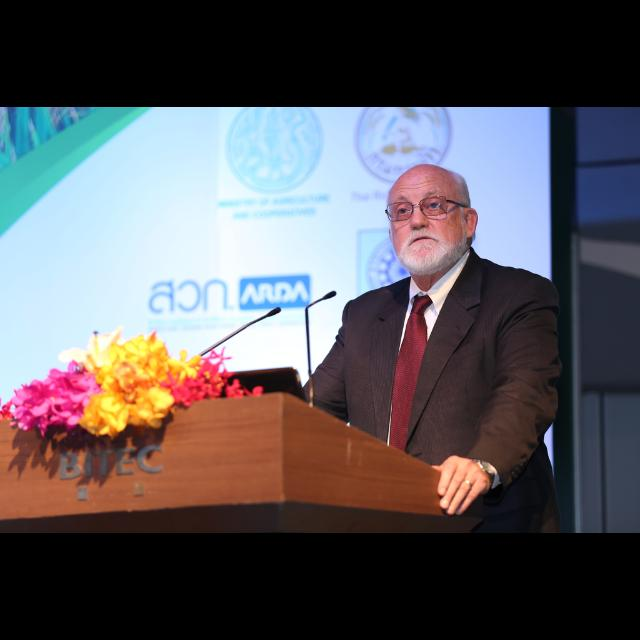Flower: (0, 325, 262, 439), (17, 352, 97, 456)
